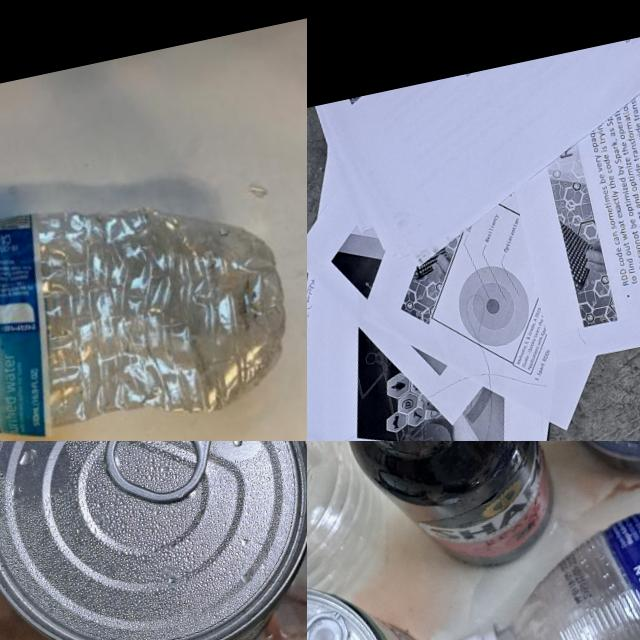aba de lata: (86, 441, 241, 514)
garrafa de vidro: (307, 441, 570, 597)
garrafa plástica: (0, 161, 305, 441), (469, 485, 640, 640), (307, 441, 399, 631)
lata: (0, 441, 307, 640), (307, 560, 449, 640)
papel: (307, 12, 640, 441)
tampa plástica: (449, 624, 511, 640)
